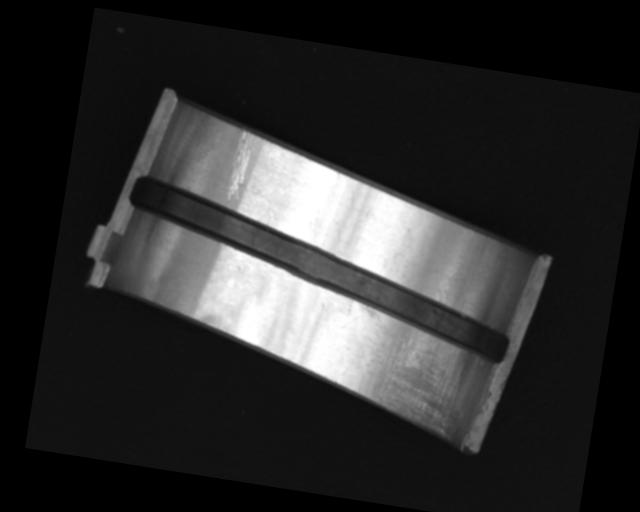gap: (113, 174, 524, 364)
nick: (224, 125, 255, 202)
scratch: (343, 304, 477, 441)
